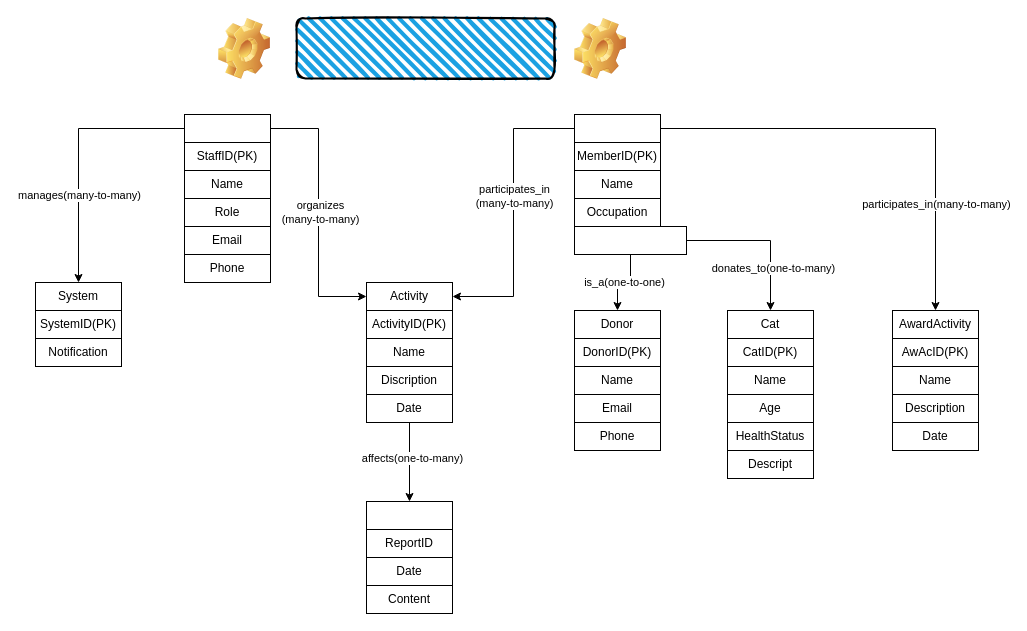
This 1027x631 diagram has some shape labels left out. Each missing label, with the box of its shape:
Identity(Donor,cat): (574, 226, 686, 254)
Member: (574, 114, 660, 142)
OH MY KITTEN in CITYU(OMKC): (295, 17, 555, 79)
Report: (366, 500, 452, 530)
Staff: (184, 114, 270, 142)
